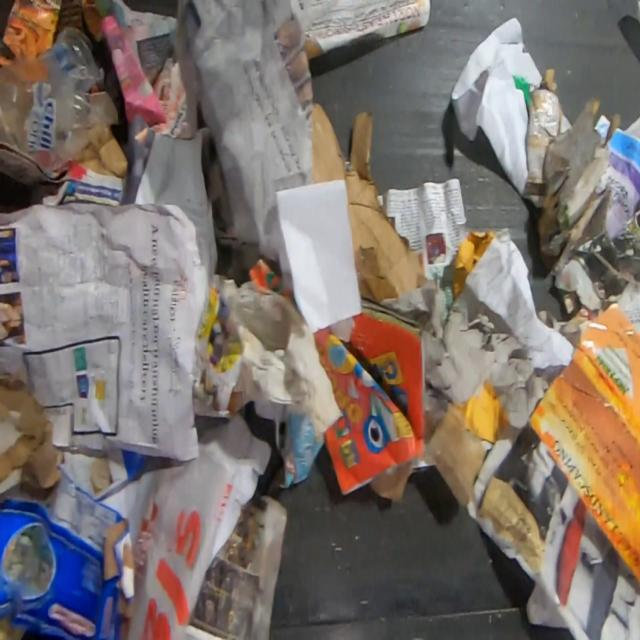cardboard: (0, 448, 142, 639), (312, 104, 422, 303), (521, 67, 620, 275), (426, 404, 488, 508)
rigid_plastic: (0, 29, 120, 179)
